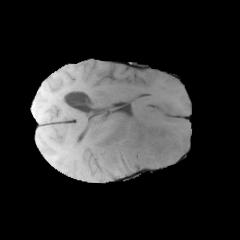glioma: (91, 97, 188, 171)
